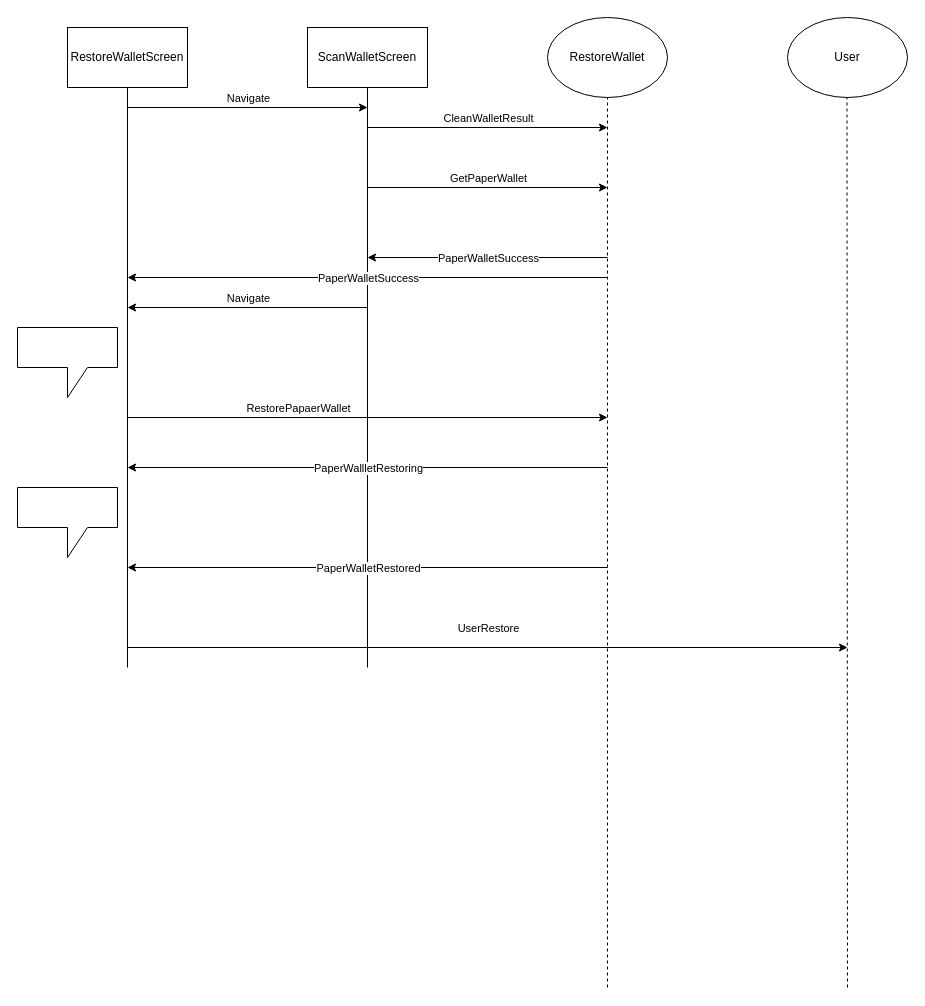
This 925x1006 diagram has some shape labels left out. Here are the shapes that lost their labels. From the top down, the centre of each, then its label:
At [67,362]: "Password".
At [67,522]: "Loadding".
